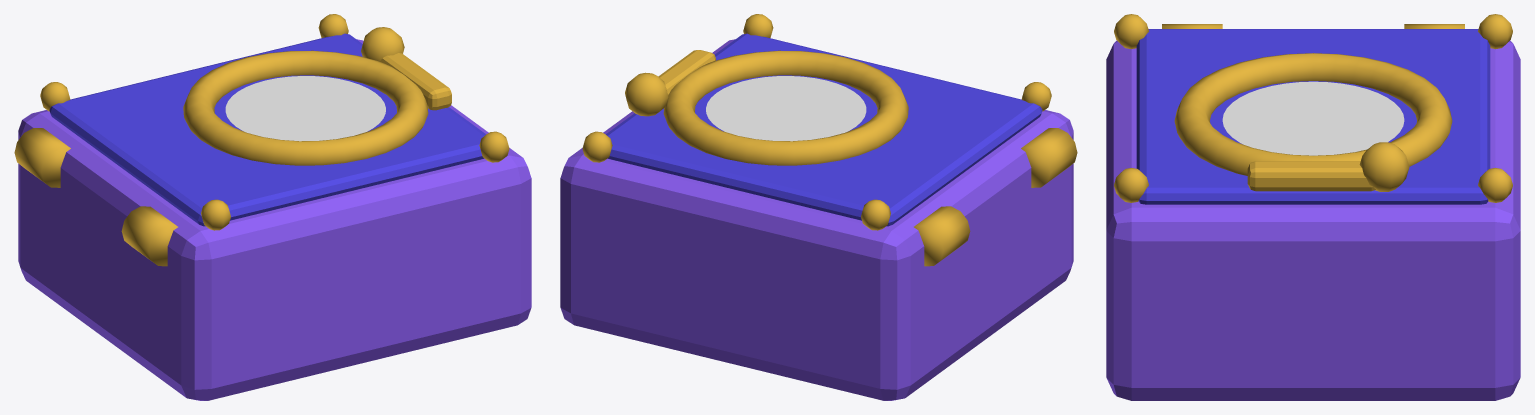
The model's file is kc_el_cofre.glb.
3 views of the same model, side by side, from view 1: azimuth 30°, elevation 25°; view 2: azimuth 150°, elevation 25°; view 3: azimuth 270°, elevation 25° (orthographic). The views are drawn at different scales.
Parts seen in each view (by area): view 1: Cube, Cube.001, Torus, screen, Cylinder.001, Cylinder, Cube.002, Sphere, Sphere.001, Sphere.003, Sphere.002, Sphere.004; view 2: Cube, Cube.001, Torus, screen, Cylinder, Cylinder.001, Sphere, Cube.002, Sphere.002, Sphere.004, Sphere.001, Sphere.003; view 3: Cube, Cube.001, Torus, screen, Cube.002, Sphere, Sphere.003, Sphere.004, Sphere.001, Sphere.002.
Part boxes in pixels (left/top/right/bottom): Cube: left=18, top=39, right=531, bottom=400; Cube.001: left=49, top=33, right=485, bottom=226; Torus: left=183, top=50, right=428, bottom=165; screen: left=225, top=76, right=385, bottom=141; Cylinder.001: left=121, top=206, right=177, bottom=266; Cylinder: left=14, top=128, right=70, bottom=187; Cube.002: left=379, top=53, right=451, bottom=110; Sphere: left=361, top=27, right=404, bottom=61; Sphere.001: left=201, top=199, right=230, bottom=230; Sphere.003: left=479, top=131, right=509, bottom=162; Sphere.002: left=40, top=82, right=70, bottom=111; Sphere.004: left=318, top=14, right=348, bottom=37; Cube: left=560, top=39, right=1073, bottom=400; Cube.001: left=606, top=33, right=1042, bottom=226; Torus: left=663, top=50, right=908, bottom=165; screen: left=706, top=76, right=866, bottom=141; Cylinder: left=914, top=206, right=970, bottom=266; Cylinder.001: left=1021, top=128, right=1077, bottom=187; Sphere: left=625, top=72, right=668, bottom=116; Cube.002: left=658, top=50, right=715, bottom=95; Sphere.002: left=861, top=199, right=890, bottom=230; Sphere.004: left=582, top=131, right=612, bottom=162; Sphere.001: left=1021, top=82, right=1051, bottom=111; Sphere.003: left=743, top=14, right=773, bottom=37; Cube: left=1106, top=40, right=1520, bottom=400; Cube.001: left=1136, top=29, right=1490, bottom=204; Torus: left=1174, top=53, right=1452, bottom=175; screen: left=1222, top=81, right=1404, bottom=155; Cube.002: left=1247, top=161, right=1375, bottom=191; Sphere: left=1359, top=142, right=1409, bottom=191; Sphere.003: left=1114, top=168, right=1148, bottom=202; Sphere.004: left=1478, top=168, right=1512, bottom=202; Sphere.001: left=1114, top=14, right=1148, bottom=49; Sphere.002: left=1478, top=14, right=1512, bottom=49.
Size of the model in its own units: 0.95 by 0.54 by 0.82.
